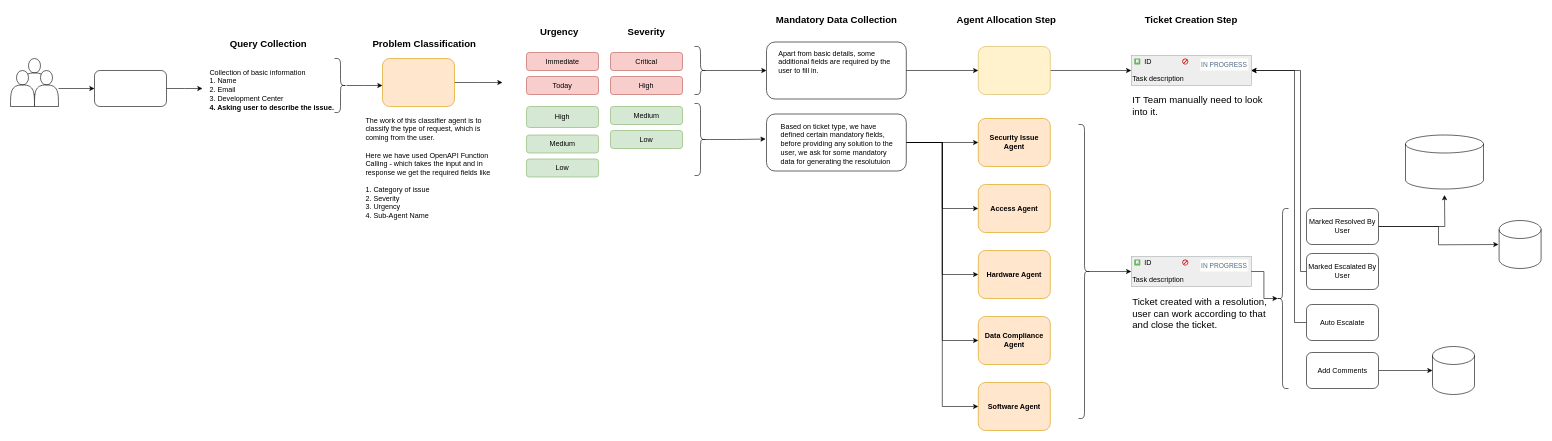
This 1552x441 diagram has some shape labels left out. The centre of each missing label's shape, as x and y in pixels:
Added To Knowledgebase Table: point (1444, 161)
Classifier Agent: point (418, 82)
Comments Table: point (1453, 370)
Infosys IT Ticket System: point (130, 88)
IT TEAM: point (1014, 70)
Tickets Table: point (1519, 244)
